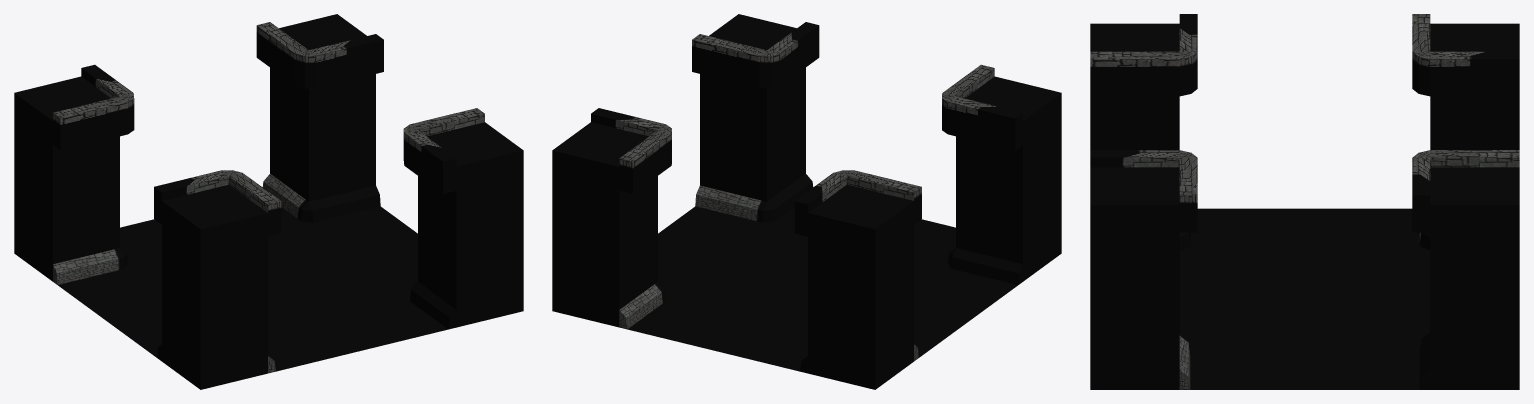
Rendered from Segment_Crossing.FBX.
3 renders of one model, left to right at view 1: azimuth 30°, elevation 25°; view 2: azimuth 150°, elevation 25°; view 3: azimuth 270°, elevation 25°, orthographic. The views are drawn at different scales.
Visible parts, largest first — view 1: Plane009, Piece_OuterCorner002, Piece_OuterCorner003, Piece_OuterCorner, Piece_OuterCorner004; view 2: Plane009, Piece_OuterCorner, Piece_OuterCorner004, Piece_OuterCorner002, Piece_OuterCorner003; view 3: Plane009, Piece_OuterCorner003, Piece_OuterCorner004, Piece_OuterCorner, Piece_OuterCorner002.
Part boxes in pixels (x1=…): Plane009: x1=58, y1=206, x2=448, y2=371; Piece_OuterCorner002: x1=154, y1=170, x2=281, y2=389; Piece_OuterCorner003: x1=403, y1=108, x2=523, y2=329; Piece_OuterCorner: x1=14, y1=64, x2=134, y2=284; Piece_OuterCorner004: x1=256, y1=14, x2=383, y2=222; Plane009: x1=627, y1=206, x2=1017, y2=371; Piece_OuterCorner: x1=794, y1=170, x2=921, y2=389; Piece_OuterCorner004: x1=552, y1=108, x2=671, y2=329; Piece_OuterCorner002: x1=942, y1=64, x2=1061, y2=284; Piece_OuterCorner003: x1=692, y1=14, x2=819, y2=222; Plane009: x1=1179, y1=208, x2=1430, y2=389; Piece_OuterCorner003: x1=1090, y1=150, x2=1197, y2=389; Piece_OuterCorner004: x1=1412, y1=150, x2=1519, y2=389; Piece_OuterCorner: x1=1412, y1=14, x2=1519, y2=250; Piece_OuterCorner002: x1=1090, y1=14, x2=1197, y2=250.
Size of the model in its own units: 400 by 200 by 400.
